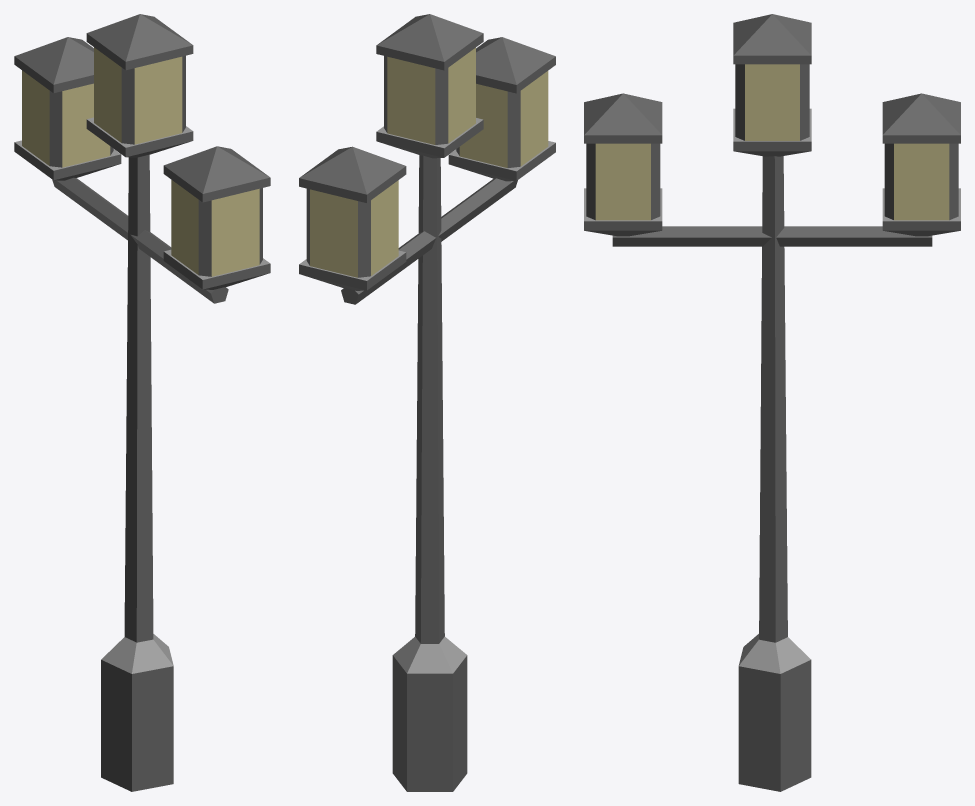
The model's file is pillar_009.fbx.
The picture shows the model from 3 angles, left to right: view 1: azimuth 30°, elevation 25°; view 2: azimuth 150°, elevation 25°; view 3: azimuth 270°, elevation 25°; orthographic projection.
Visible parts, largest first — view 1: pillar_009; view 2: pillar_009; view 3: pillar_009.
Part boxes in pixels (x1=…): pillar_009: x1=14, y1=14, x2=270, y2=791; pillar_009: x1=299, y1=14, x2=555, y2=791; pillar_009: x1=584, y1=14, x2=960, y2=791.
Bounding box in the file's own units: 33.48 × 347 × 156.
